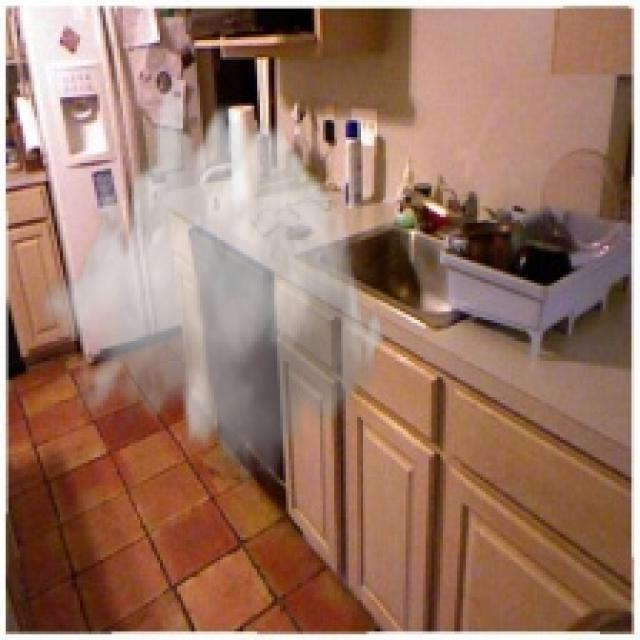Smoke: (42, 77, 388, 494)
